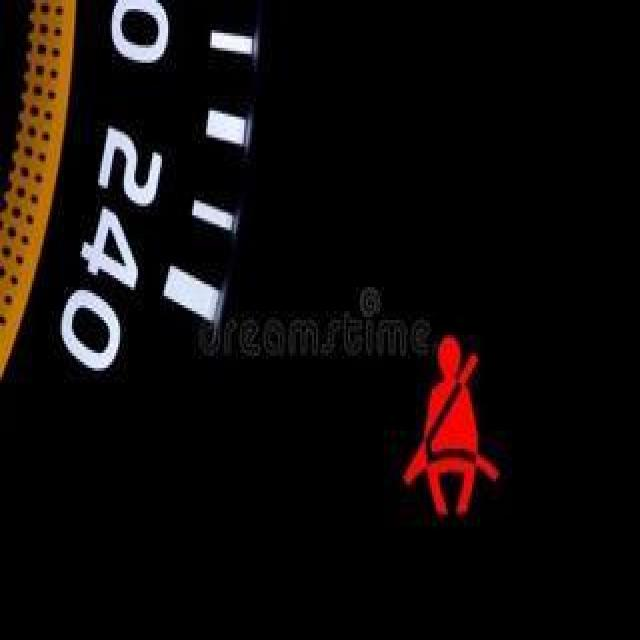kontrolka: (390, 305, 511, 528)
